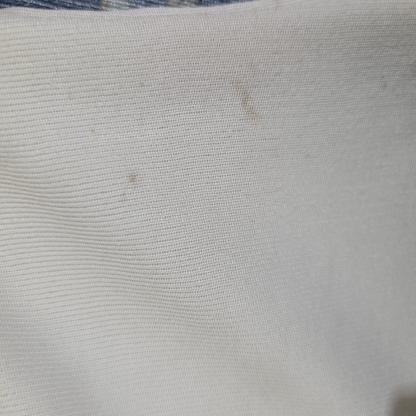spot: (234, 62, 266, 141), (118, 161, 138, 216), (135, 72, 149, 93), (88, 121, 102, 139)
